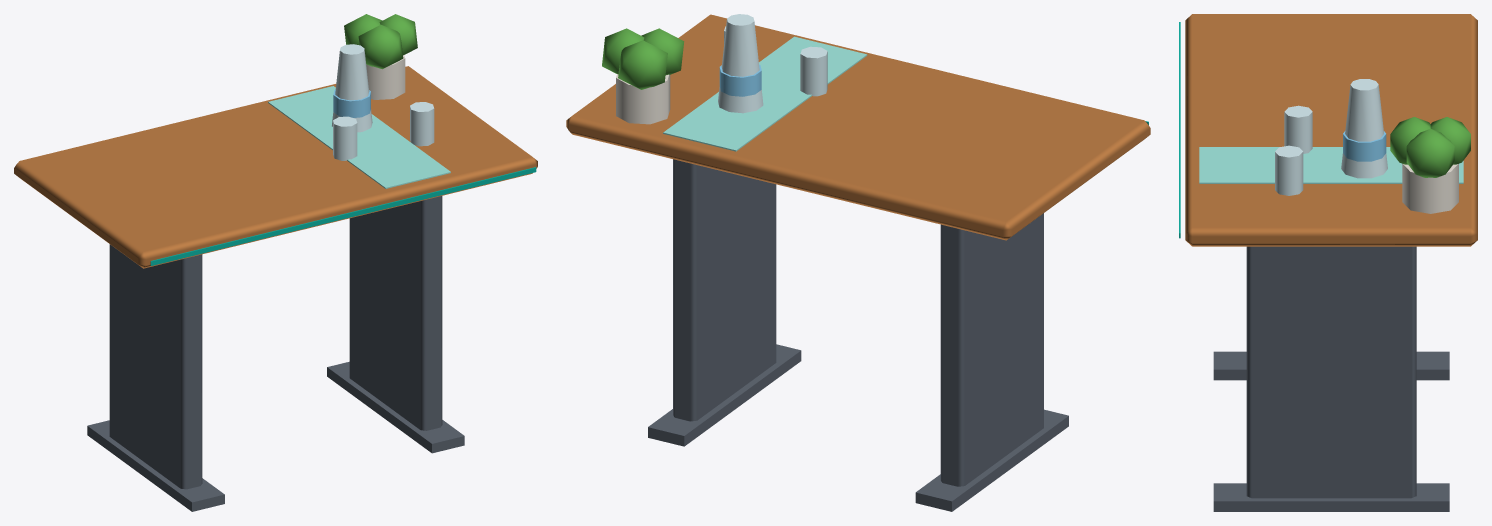
Rendered from station_special_basis.glb.
3 views of the same model, side by side, from view 1: azimuth 30°, elevation 25°; view 2: azimuth 150°, elevation 25°; view 3: azimuth 270°, elevation 25° (orthographic). The views are drawn at different scales.
Parts seen in each view (by area): view 1: station_special_basis; view 2: station_special_basis; view 3: station_special_basis.
Part boxes in pixels (x1=…): station_special_basis: x1=14, y1=14, x2=537, y2=511; station_special_basis: x1=566, y1=14, x2=1150, y2=511; station_special_basis: x1=1179, y1=14, x2=1477, y2=511.
Bounding box in the file's own units: 1.1 × 0.941 × 0.633.
